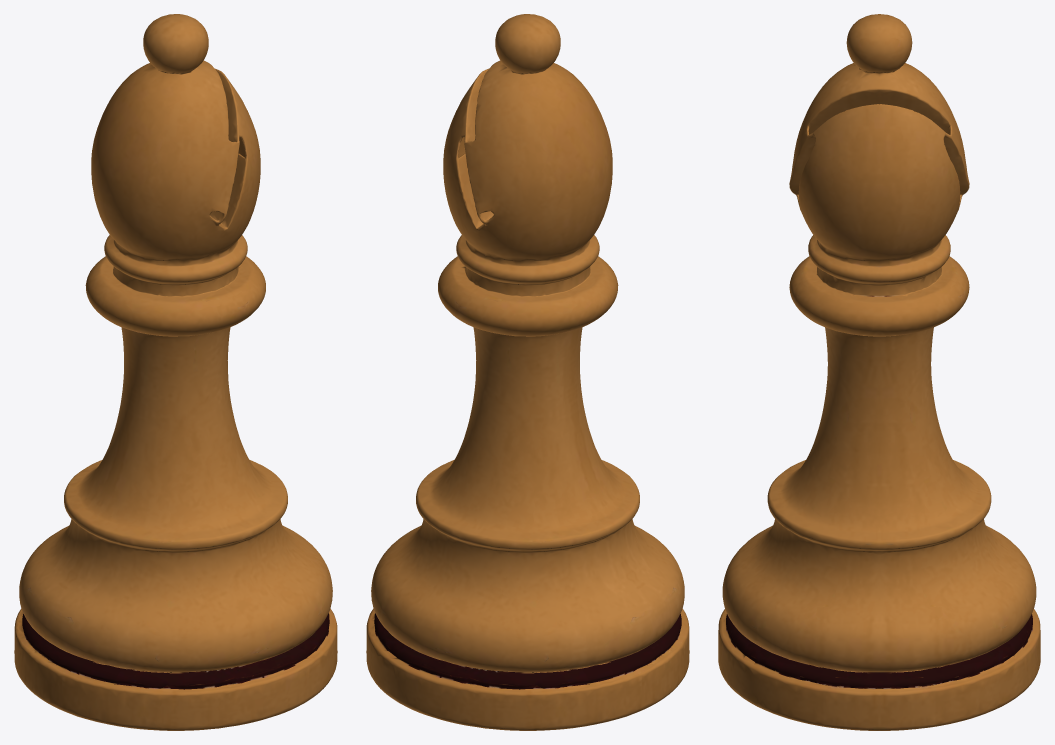
Rendered from 05_bishop_light.glb.
3 renders of one model, left to right at view 1: azimuth 30°, elevation 25°; view 2: azimuth 150°, elevation 25°; view 3: azimuth 270°, elevation 25°, orthographic.
Parts seen in each view (by area): view 1: world; view 2: world; view 3: world.
Part boxes in pixels (left/top/right/bottom): world: left=14, top=14, right=337, bottom=730; world: left=366, top=14, right=689, bottom=730; world: left=718, top=14, right=1040, bottom=730.
Bounding box in the file's own units: 0.4535 × 1 × 0.4532.
Materials: 1 (1 with a texture image).
